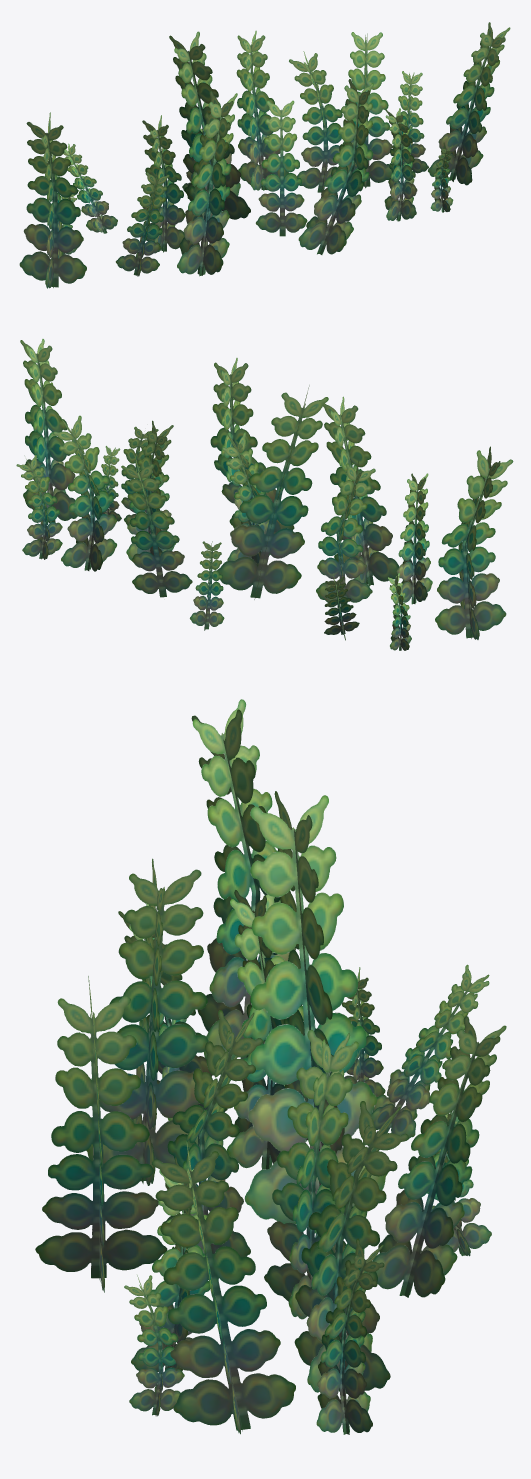
File: Map_07_grass06.FBX
3 renders of one model, top to bottom at view 1: azimuth 30°, elevation 25°; view 2: azimuth 150°, elevation 25°; view 3: azimuth 270°, elevation 25°, orthographic. The views are drawn at different scales.
Parts seen in each view (by area): view 1: Map_07_grass06; view 2: Map_07_grass06; view 3: Map_07_grass06.
Boxes of the visible parts, x1,y1,x2,y2 form: Map_07_grass06: (19, 22, 510, 288); Map_07_grass06: (16, 339, 513, 650); Map_07_grass06: (35, 699, 506, 1434).
Size of the model in its own units: 507 by 217 by 234.
Materials: 1 (1 with a texture image).
